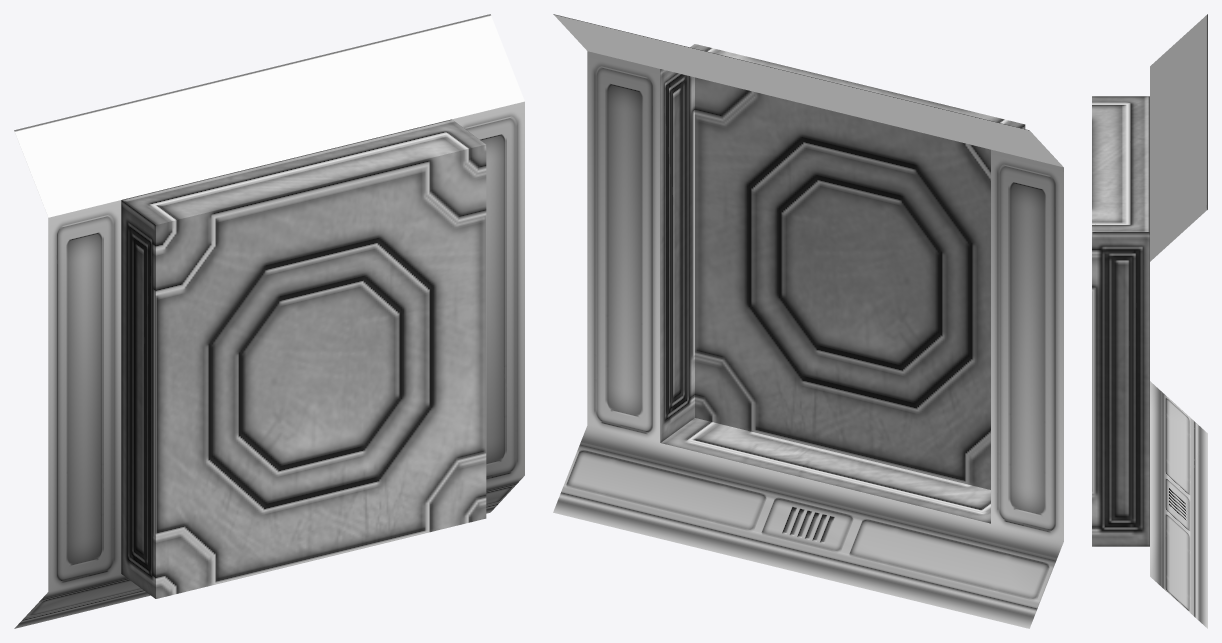
File: Sect_Wall_4a_Empty.FBX
3 views of the same model, side by side, from view 1: azimuth 30°, elevation 25°; view 2: azimuth 150°, elevation 25°; view 3: azimuth 270°, elevation 25° (orthographic). The views are drawn at different scales.
Visible parts, largest first — view 1: Wall_4a_Empty; view 2: Wall_4a_Empty; view 3: Wall_4a_Empty.
Part boxes in pixels (x1,y1,x2,y2): Wall_4a_Empty: (14,14,524,628); Wall_4a_Empty: (553,14,1063,628); Wall_4a_Empty: (1092,14,1207,628).
Bounding box in the file's own units: 4 × 4 × 1.
